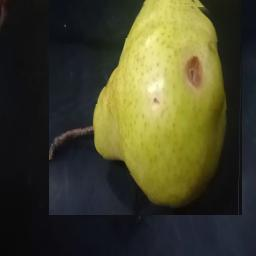Pear Semifresh: (50, 0, 243, 215)
